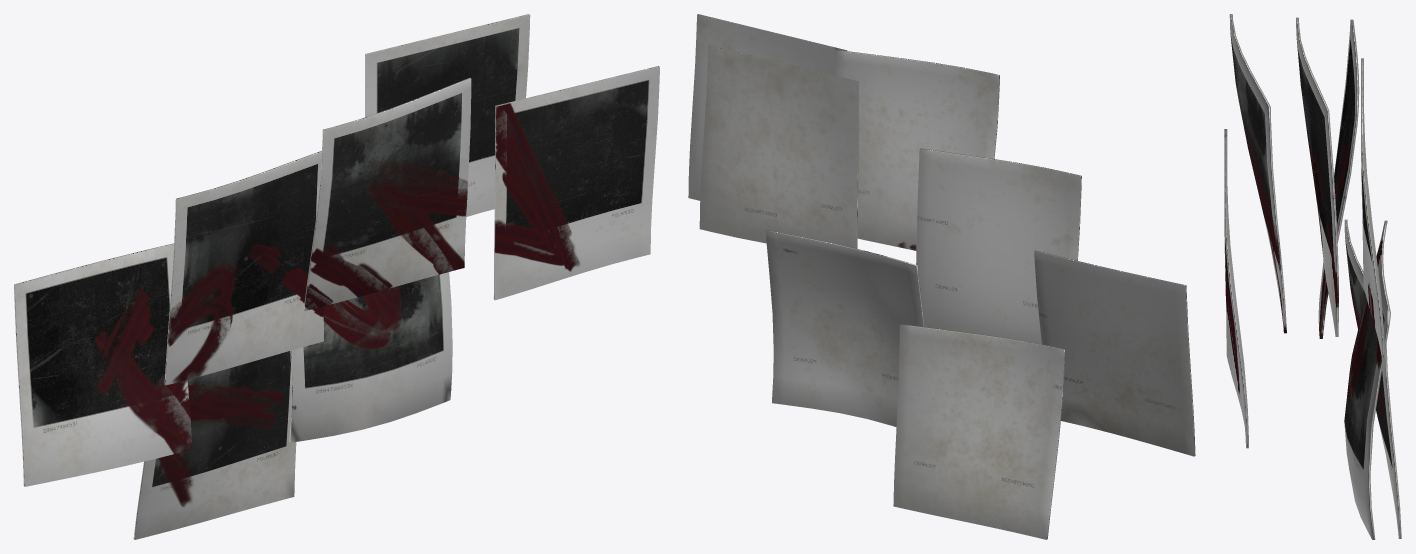
Rendered from polaroid_pictures.fbx.
3 views of the same model, side by side, from view 1: azimuth 30°, elevation 25°; view 2: azimuth 150°, elevation 25°; view 3: azimuth 270°, elevation 25° (orthographic). The views are drawn at different scales.
Parts seen in each view (by area): view 1: photo_3, photo_1, photo_2, photo_4, photo_5, photo, photo_6; view 2: photo, photo_6, photo_4, photo_3, photo_5, photo_2, photo_1; view 3: photo_5, photo_4, photo_2, photo_3, photo, photo_1, photo_6.
Part boxes in pixels (x1,y1,x2,y2): photo_3: (14, 243, 192, 486); photo_1: (493, 66, 659, 300); photo_2: (303, 78, 471, 310); photo_4: (164, 151, 323, 385); photo_5: (289, 272, 452, 442); photo: (133, 351, 296, 539); photo_6: (365, 14, 530, 216); photo: (893, 324, 1064, 539); photo_6: (699, 45, 858, 248); photo_4: (916, 148, 1081, 344); photo_3: (1034, 250, 1195, 456); photo_5: (765, 230, 924, 427); photo_2: (834, 49, 999, 250); photo_1: (688, 14, 847, 200); photo_5: (1344, 220, 1390, 539); photo_4: (1296, 17, 1338, 336); photo_2: (1229, 14, 1286, 333); photo_3: (1318, 19, 1359, 338); photo: (1344, 219, 1401, 538); photo_1: (1224, 129, 1248, 448); photo_6: (1361, 58, 1385, 377).
Size of the model in its own units: 7.21 by 5.13 by 1.61.
1 material, 1 textured.
